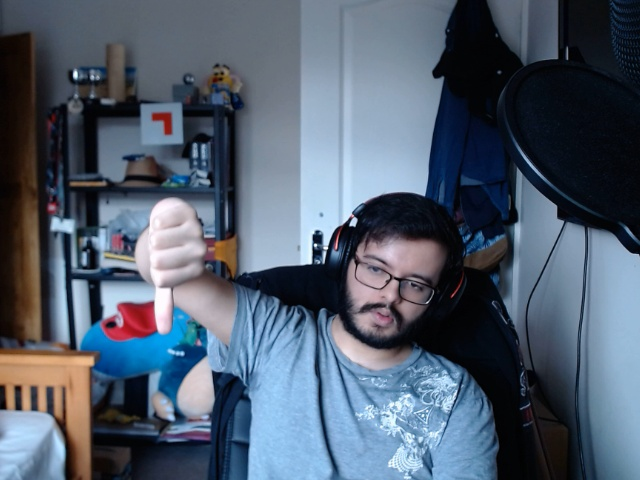Thumbs down: (149, 187, 210, 340)
